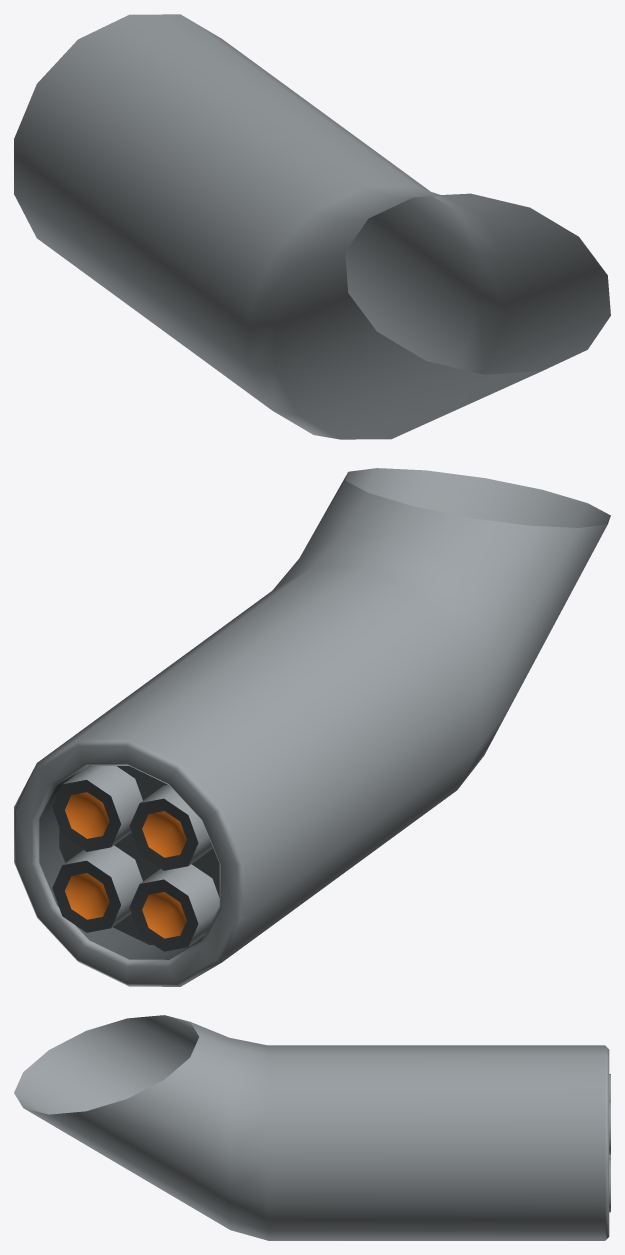
File: Car_10_Pipe_Cool.fbx
3 renders of one model, top to bottom at view 1: azimuth 30°, elevation 25°; view 2: azimuth 150°, elevation 25°; view 3: azimuth 270°, elevation 25°, orthographic. The views are drawn at different scales.
Parts seen in each view (by area): view 1: Car_10_Pipe_Cool; view 2: Car_10_Pipe_Cool; view 3: Car_10_Pipe_Cool.
Boxes of the visible parts, x1,y1,x2,y2 form: Car_10_Pipe_Cool: [14, 14, 610, 439]; Car_10_Pipe_Cool: [14, 468, 610, 986]; Car_10_Pipe_Cool: [14, 1015, 610, 1240].
Bounding box in the file's own units: 35.35 × 111 × 39.9.
